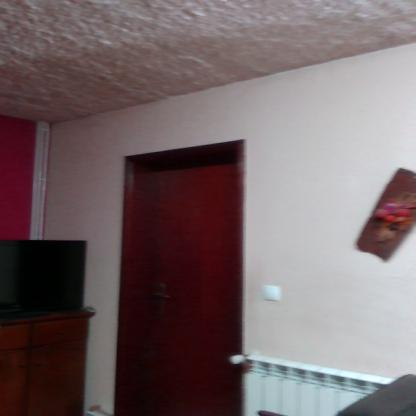door: (134, 165, 242, 414)
lever: (148, 292, 175, 300)
